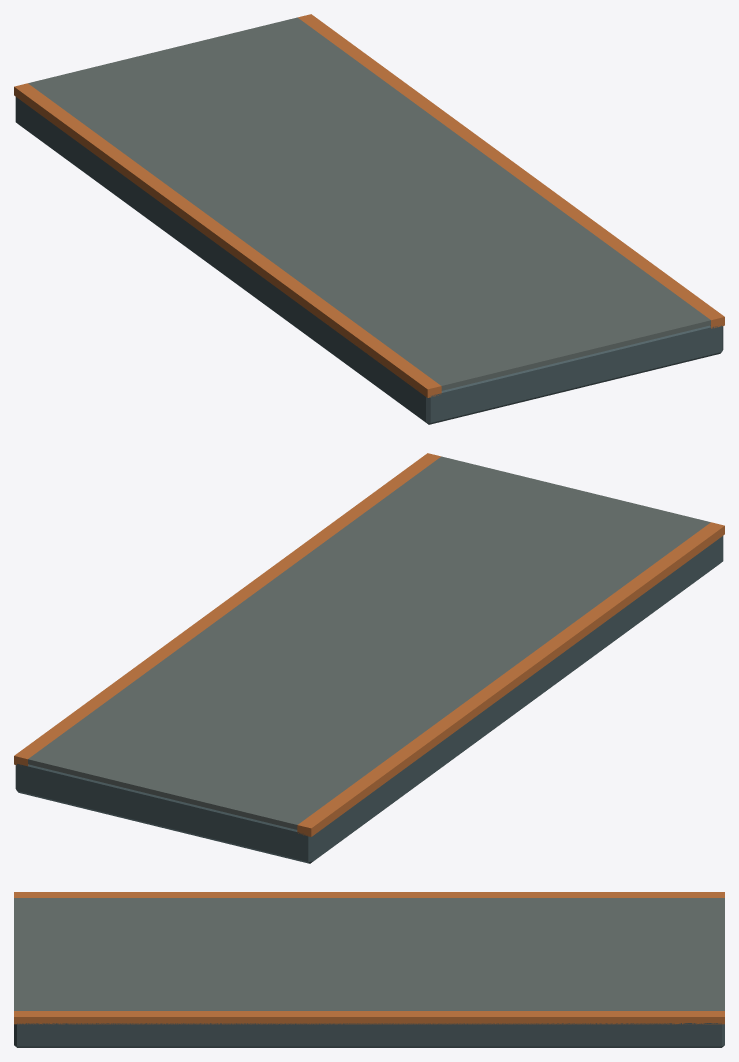
The model's file is w6a-spinner-lift-lip.glb.
3 renders of one model, top to bottom at view 1: azimuth 30°, elevation 25°; view 2: azimuth 150°, elevation 25°; view 3: azimuth 270°, elevation 25°, orthographic. The views are drawn at different scales.
Parts seen in each view (by area): view 1: Fixed spinner to bottom-lift approach; view 2: Fixed spinner to bottom-lift approach; view 3: Fixed spinner to bottom-lift approach.
Boxes of the visible parts, x1,y1,x2,y2 form: Fixed spinner to bottom-lift approach: [14, 14, 724, 424]; Fixed spinner to bottom-lift approach: [14, 453, 724, 863]; Fixed spinner to bottom-lift approach: [14, 892, 724, 1047].
Size of the model in its own units: 2.49 by 0.3 by 6.
